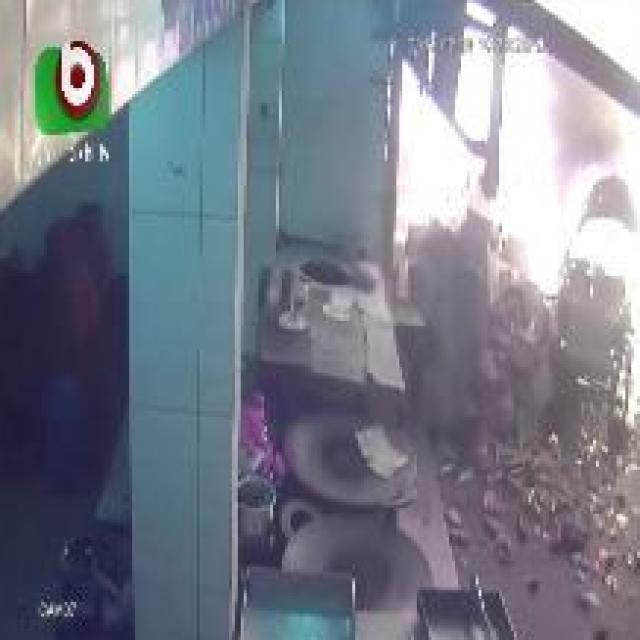smoke: (390, 0, 607, 255), (537, 0, 640, 443)
